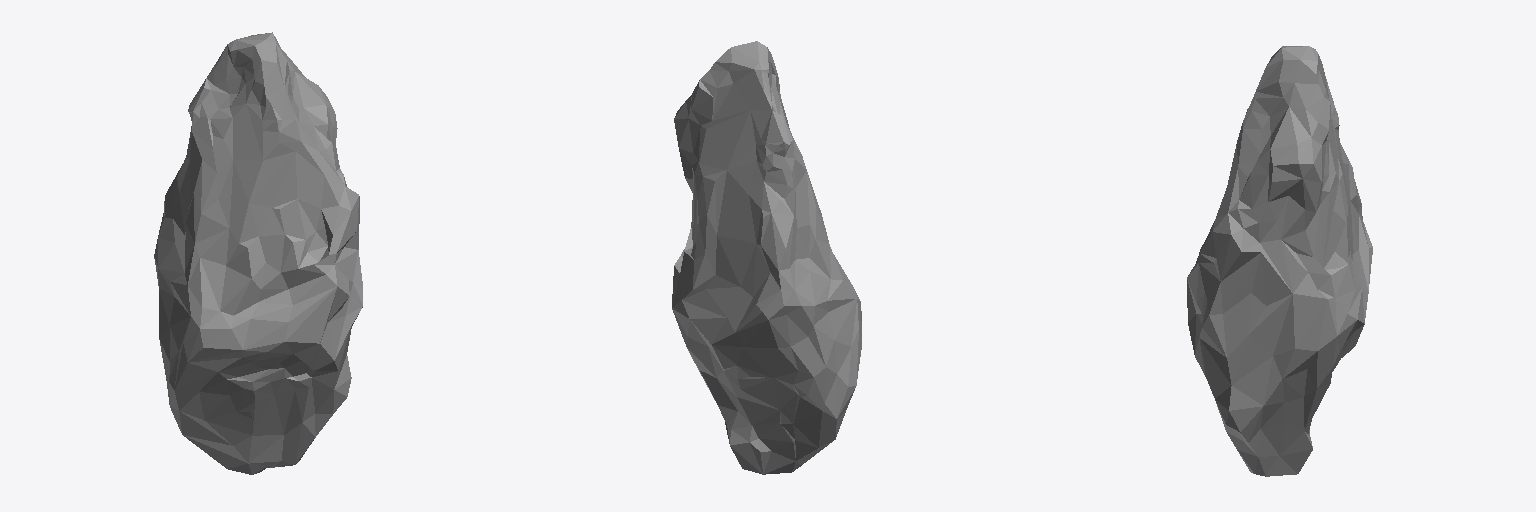
The model's file is Rock.obj.
3 renders of one model, left to right at view 1: azimuth 30°, elevation 25°; view 2: azimuth 150°, elevation 25°; view 3: azimuth 270°, elevation 25°, orthographic.
Visible parts, largest first — view 1: Sphere_002; view 2: Sphere_002; view 3: Sphere_002.
Part boxes in pixels (x1,y1,x2,y2): Sphere_002: (154, 32, 362, 474); Sphere_002: (672, 41, 861, 474); Sphere_002: (1187, 46, 1372, 476).
Size of the model in its own units: 175 by 419 by 166.